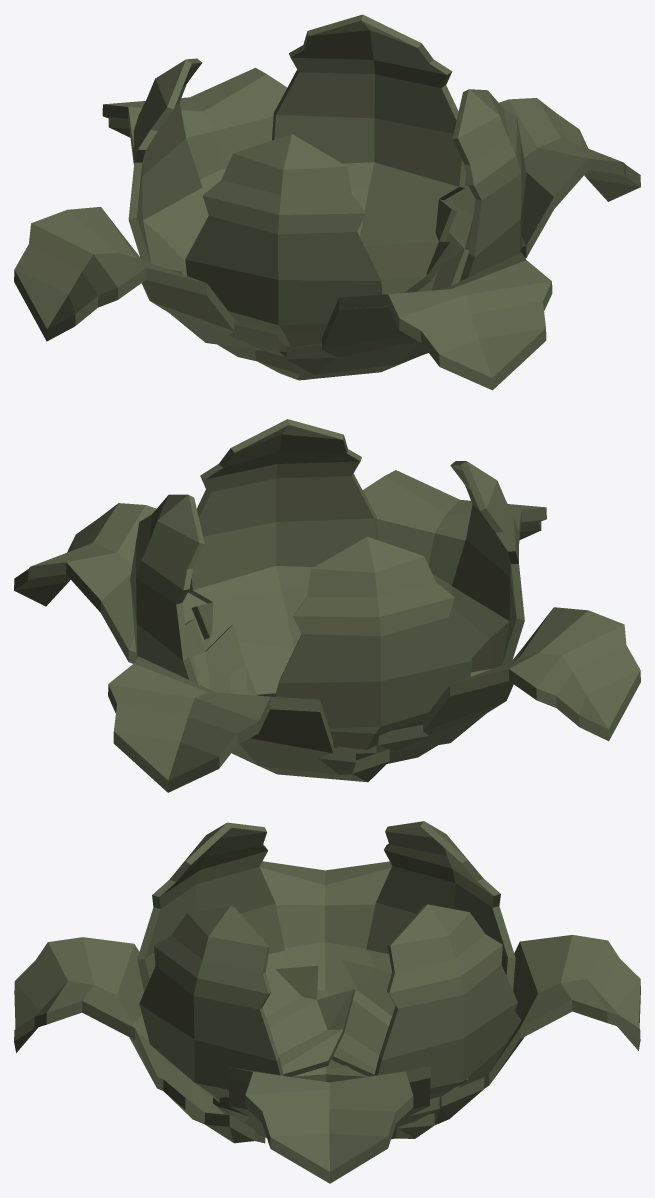
File: Lettuce_Harvested.glb
3 renders of one model, top to bottom at view 1: azimuth 30°, elevation 25°; view 2: azimuth 150°, elevation 25°; view 3: azimuth 270°, elevation 25°, orthographic. The views are drawn at different scales.
Parts seen in each view (by area): view 1: Lettuce_Harvested; view 2: Lettuce_Harvested; view 3: Lettuce_Harvested.
Boxes of the visible parts, x1,y1,x2,y2 form: Lettuce_Harvested: (14, 14, 640, 390); Lettuce_Harvested: (14, 419, 640, 792); Lettuce_Harvested: (14, 821, 640, 1183).
Size of the model in its own units: 1.04 by 0.4742 by 1.04.
